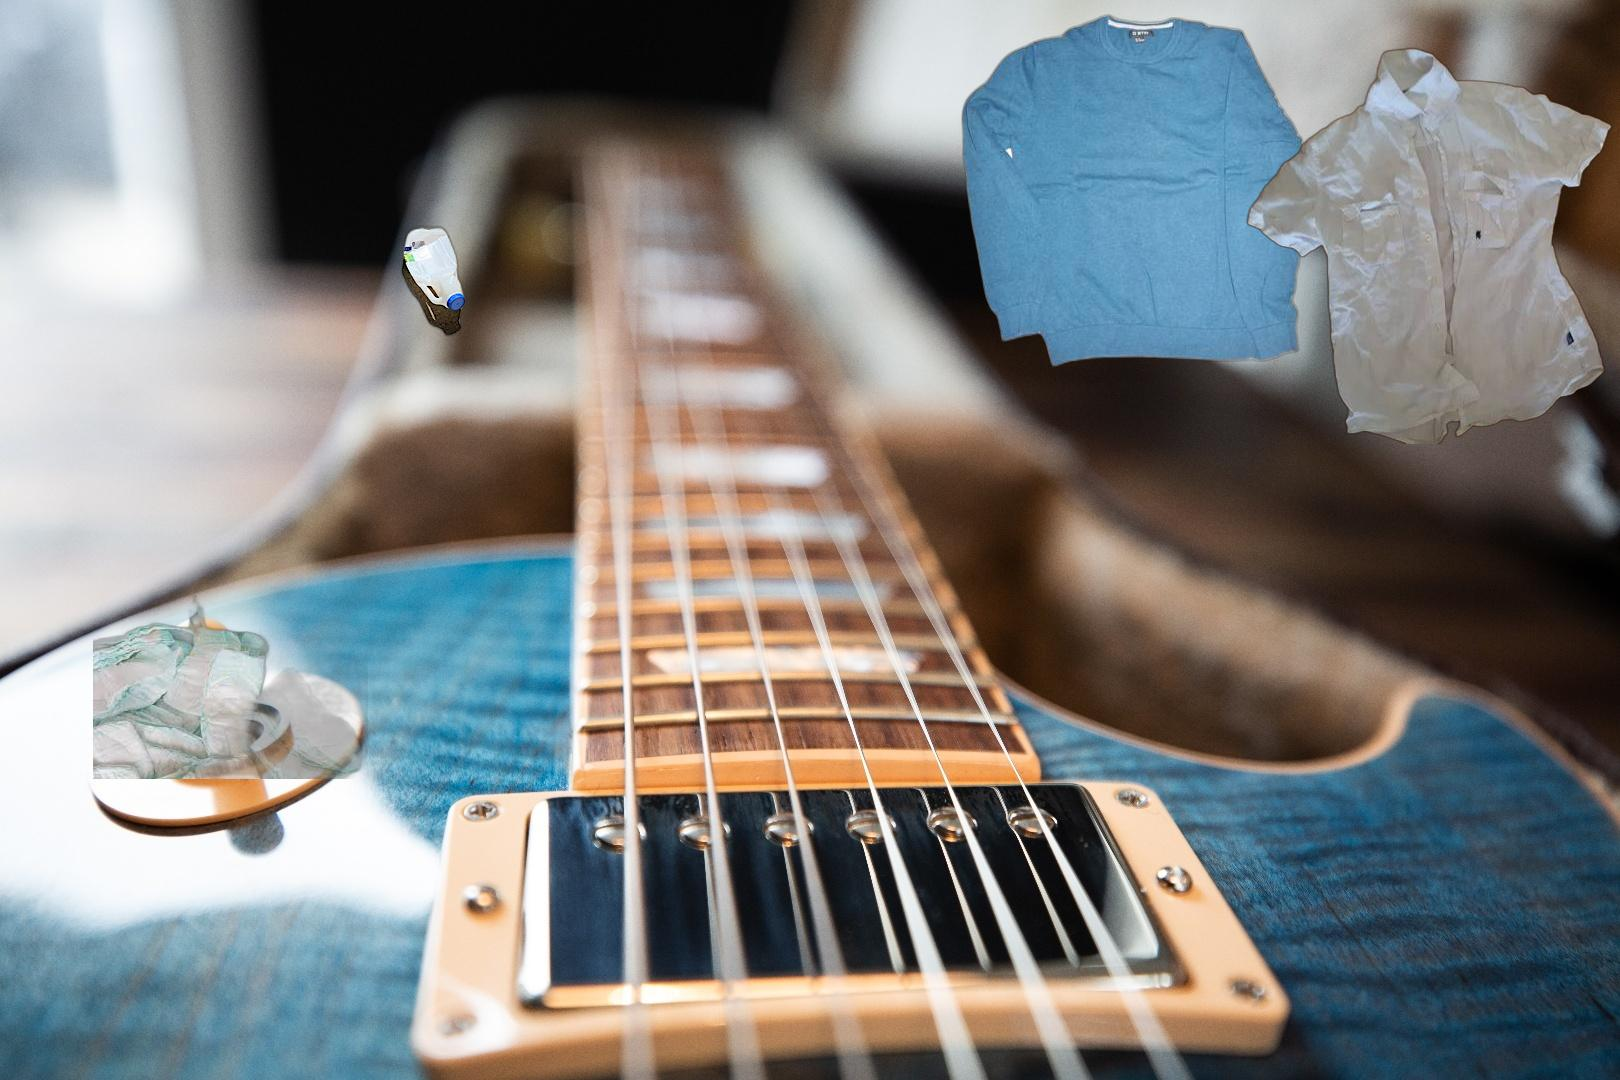clothes: (1242, 45, 1616, 444), (959, 11, 1312, 371)
plastic-bottles: (397, 222, 471, 342)
trash: (93, 595, 368, 779)
